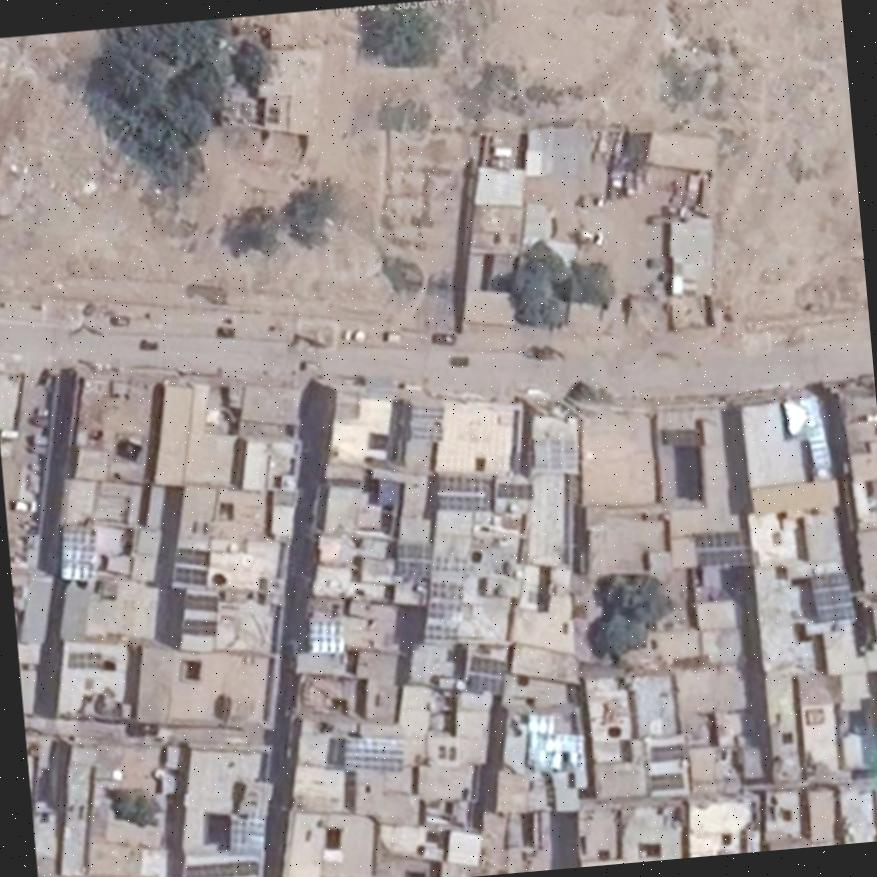Solarpanel: (692, 528, 754, 565), (811, 571, 855, 622), (435, 476, 489, 511), (60, 531, 94, 577), (342, 746, 401, 772), (467, 655, 506, 693), (226, 817, 263, 855), (183, 858, 255, 877), (393, 544, 432, 576), (309, 620, 342, 651), (179, 618, 218, 636), (172, 567, 208, 584), (175, 549, 208, 567), (495, 484, 532, 500), (184, 592, 215, 610)
